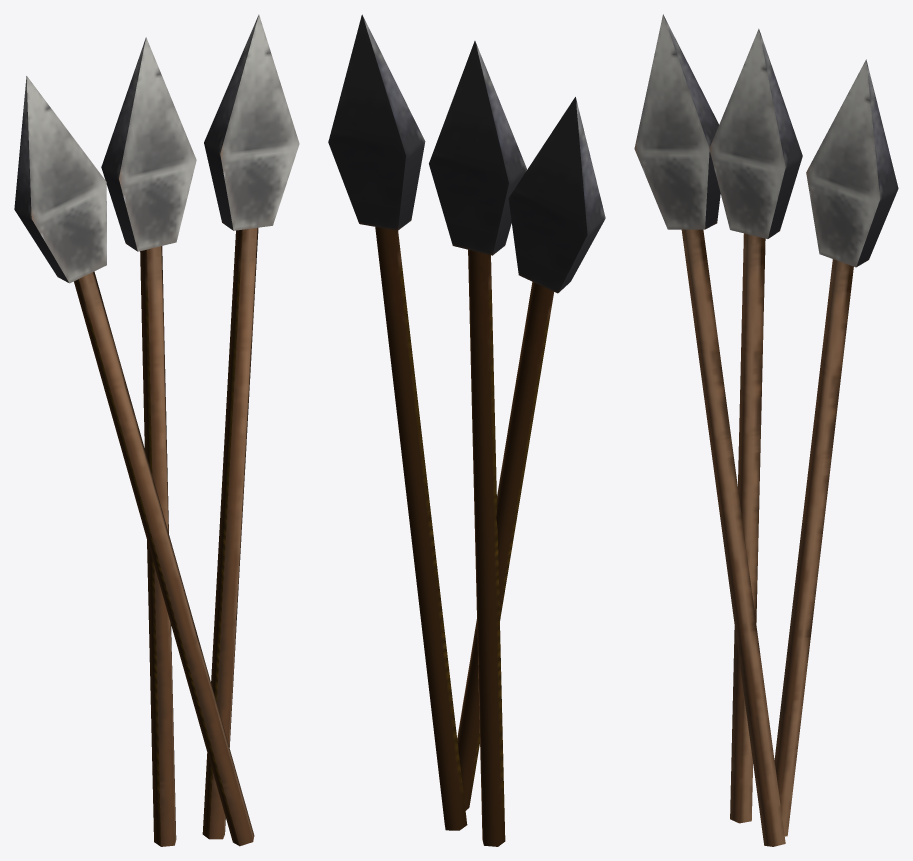
Rendered from Arrows.fbx.
3 views of the same model, side by side, from view 1: azimuth 30°, elevation 25°; view 2: azimuth 150°, elevation 25°; view 3: azimuth 330°, elevation 25° (orthographic). The views are drawn at different scales.
Parts seen in each view (by area): view 1: ArrowsGruop; view 2: ArrowsGruop; view 3: ArrowsGruop.
Part boxes in pixels (box(x1,y1,x2,y2)): ArrowsGruop: box(14, 14, 299, 846); ArrowsGruop: box(328, 14, 605, 846); ArrowsGruop: box(634, 14, 898, 846).
Size of the model in its own units: 0.6878 by 2 by 0.2661.
Materials: 1 (1 with a texture image).
